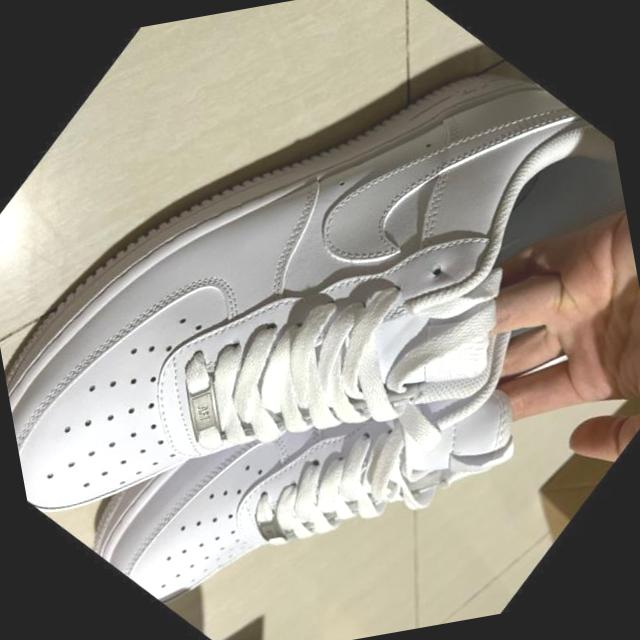nike_original_airforce: (0, 0, 640, 640), (25, 149, 623, 640)
